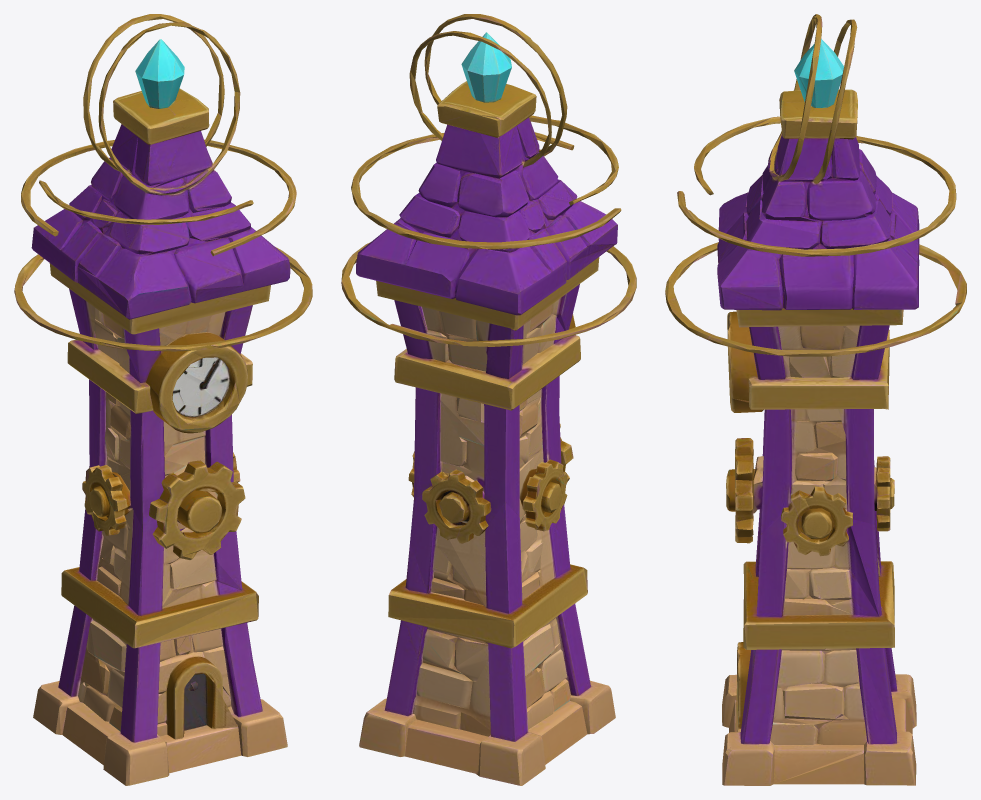
The model's file is torre-numeros.glb.
3 views of the same model, side by side, from view 1: azimuth 30°, elevation 25°; view 2: azimuth 150°, elevation 25°; view 3: azimuth 270°, elevation 25° (orthographic). The views are drawn at different scales.
Size of the model in its own units: 0.7197 by 1.9 by 0.7178.
1 material, 1 textured.
